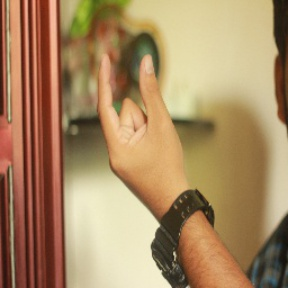U: (94, 45, 177, 186)
